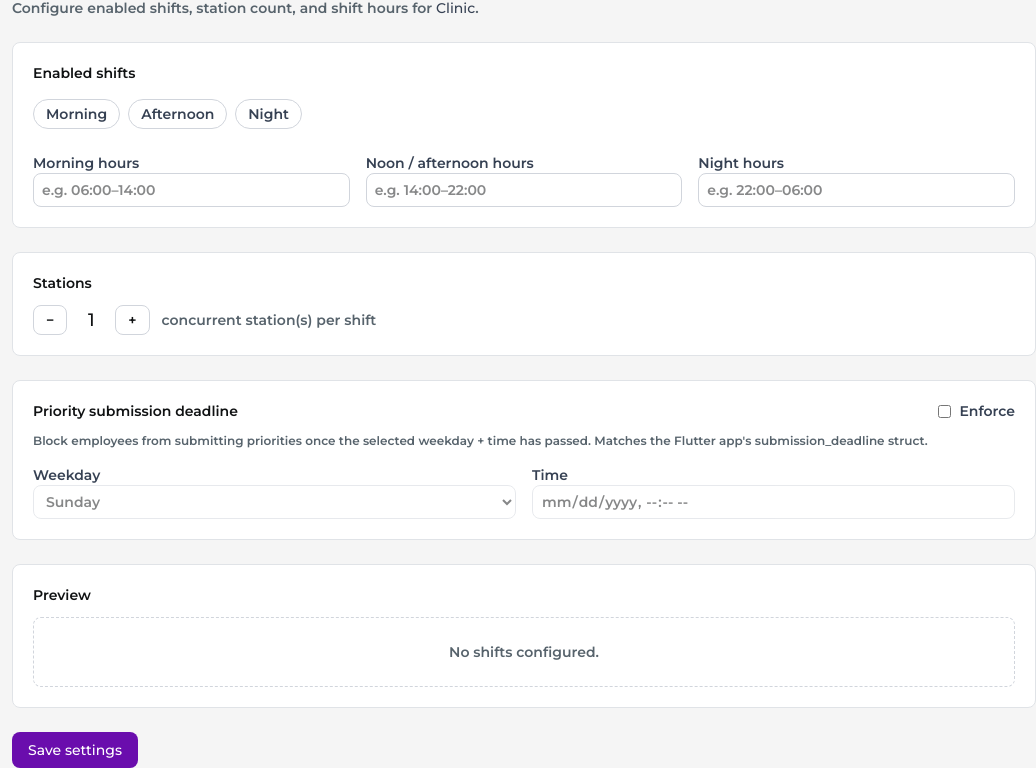
Test case: ScheduleSettingsClient › shows a failure message when updateScheduleSettings rejects
(page scrolled)
Click the button "Save settings" at (75, 750), box [12,732,138,767]
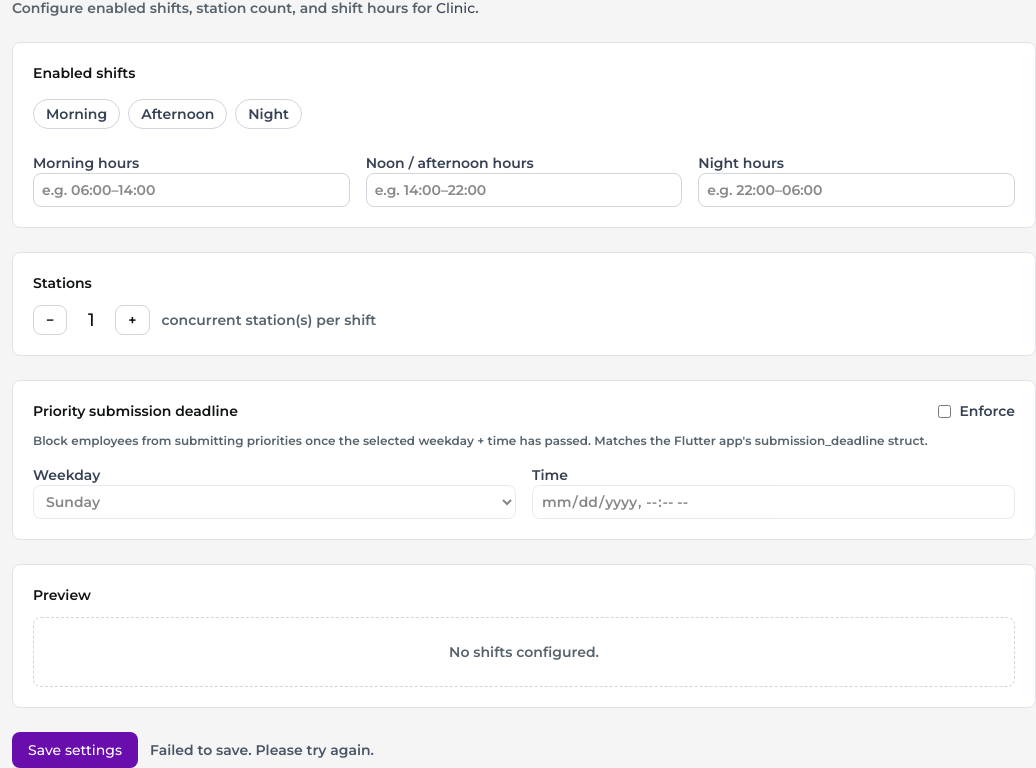
Now the text "Failed to save. Please try again." is shown, box [150,740,374,760]
